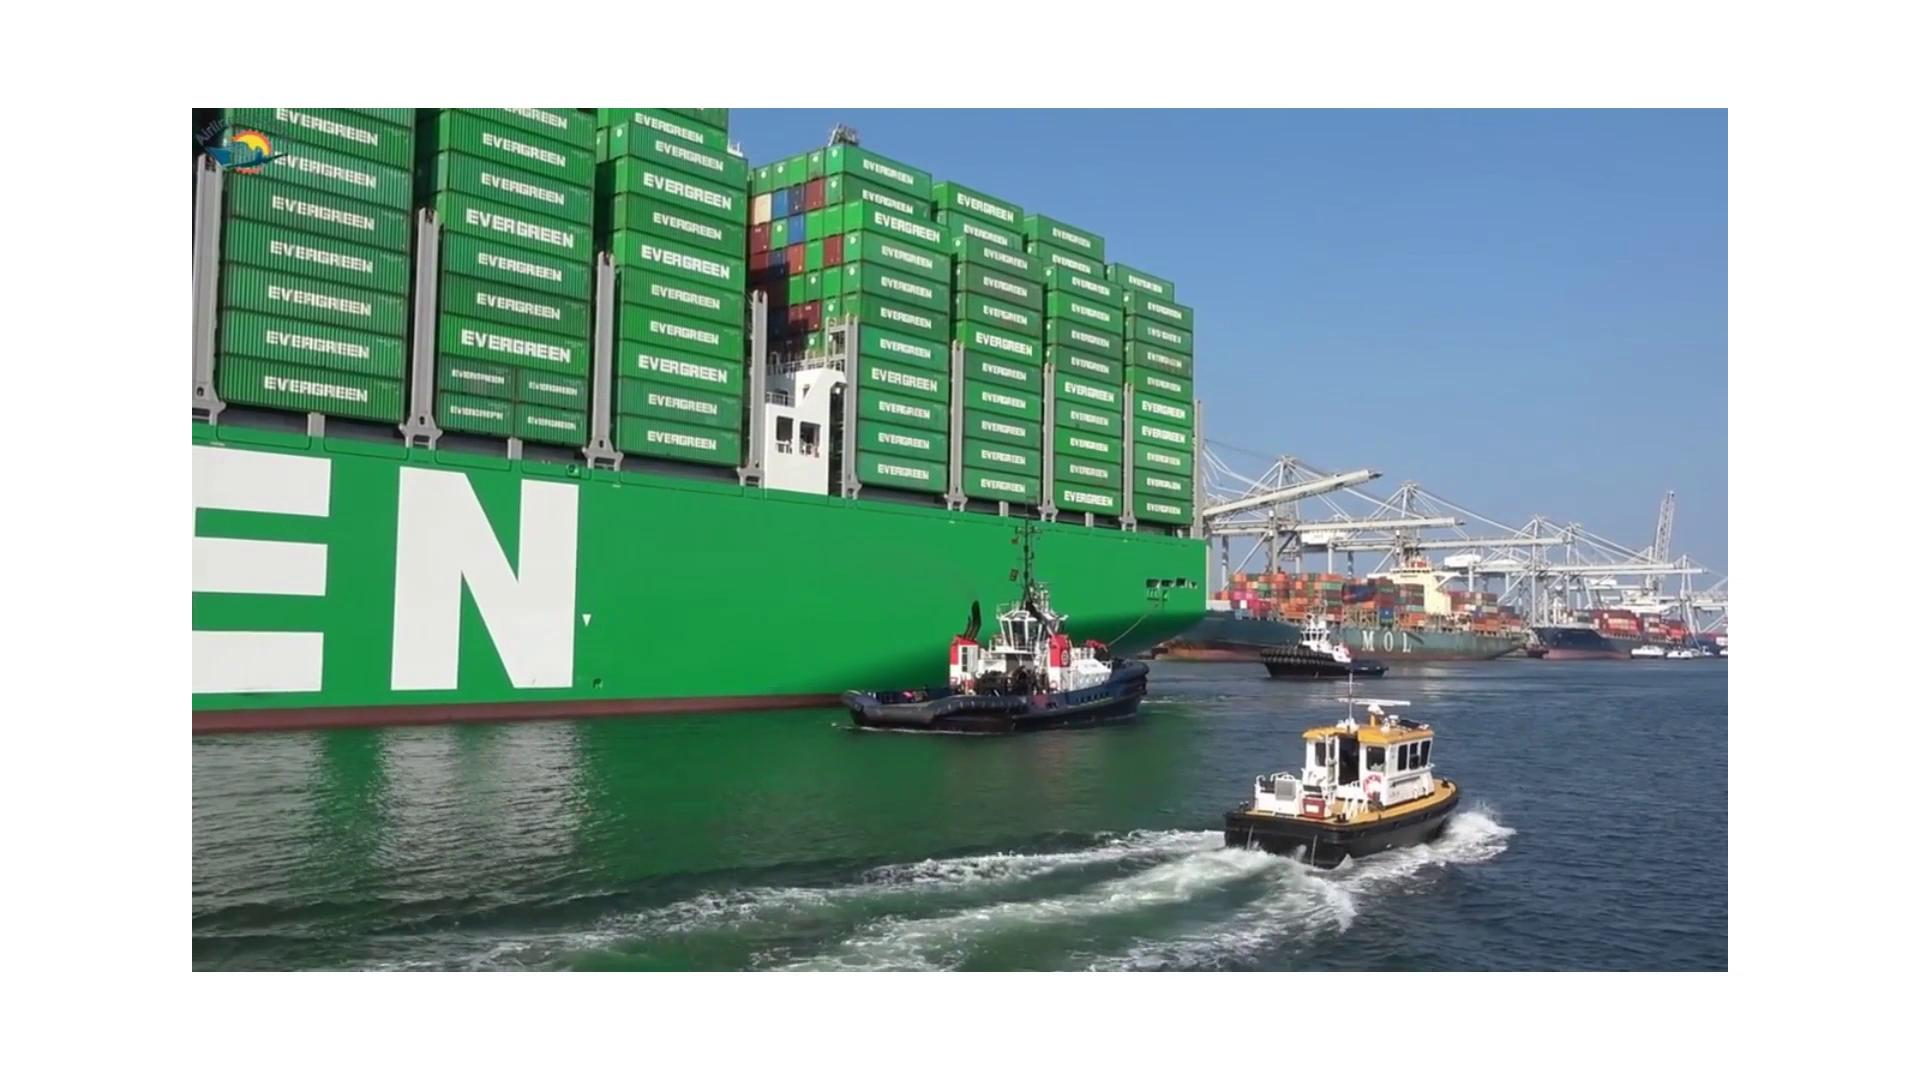OCR: (186, 417, 617, 732)
